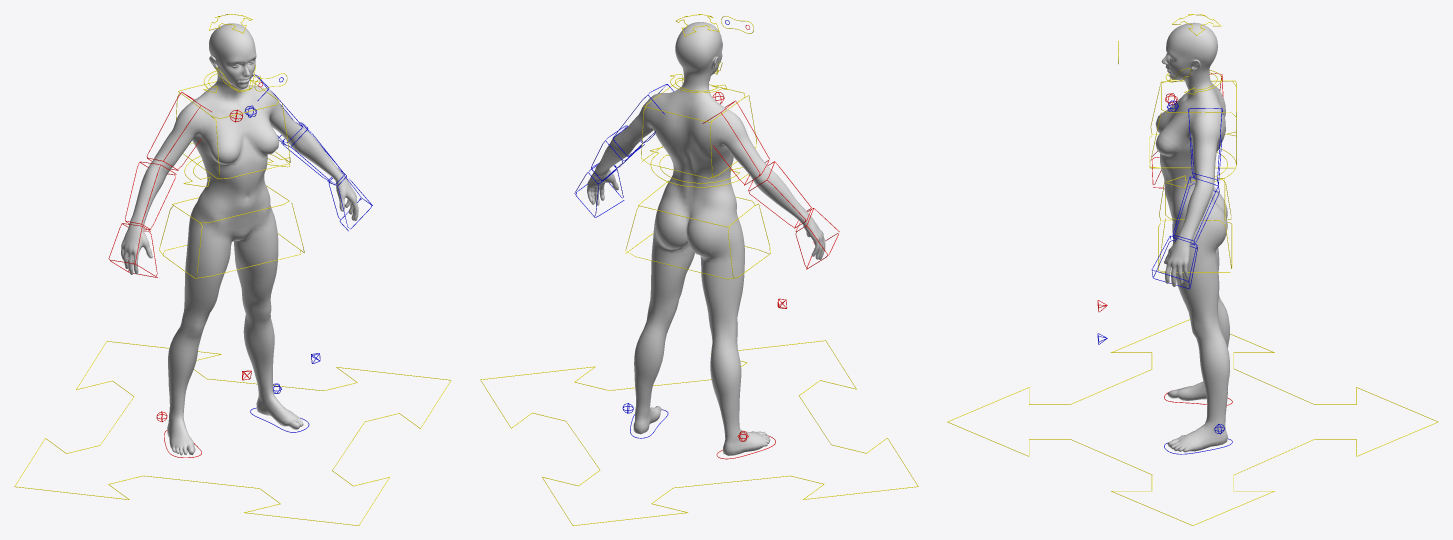
File: EveTest.glb
3 renders of one model, left to right at view 1: azimuth 30°, elevation 25°; view 2: azimuth 150°, elevation 25°; view 3: azimuth 270°, elevation 25°, orthographic. The views are drawn at different scales.
Parts seen in each view (by area): view 1: Eve_baseMesh_FemaleBaseMesh_Eve_LowRes_body, defaultBrush8Main, defaultBrush21Main, defaultBrush15Main; view 2: Eve_baseMesh_FemaleBaseMesh_Eve_LowRes_body, defaultBrush8Main, defaultBrush21Main, defaultBrush15Main; view 3: Eve_baseMesh_FemaleBaseMesh_Eve_LowRes_body, defaultBrush8Main, defaultBrush15Main, defaultBrush21Main.
Boxes of the visible parts, <box> form: Eve_baseMesh_FemaleBaseMesh_Eve_LowRes_body: <box>121,23,358,455</box>; defaultBrush8Main: <box>14,341,451,525</box>; defaultBrush21Main: <box>159,185,304,278</box>; defaultBrush15Main: <box>176,80,290,179</box>; Eve_baseMesh_FemaleBaseMesh_Eve_LowRes_body: <box>587,22,825,455</box>; defaultBrush8Main: <box>480,340,918,525</box>; defaultBrush21Main: <box>625,180,770,279</box>; defaultBrush15Main: <box>641,78,756,178</box>; Eve_baseMesh_FemaleBaseMesh_Eve_LowRes_body: <box>1155,22,1229,452</box>; defaultBrush8Main: <box>947,319,1438,525</box>; defaultBrush15Main: <box>1149,80,1236,168</box>; defaultBrush21Main: <box>1158,178,1232,272</box>.
Bounding box in the file's own units: 2.13 × 1.94 × 2.13.
